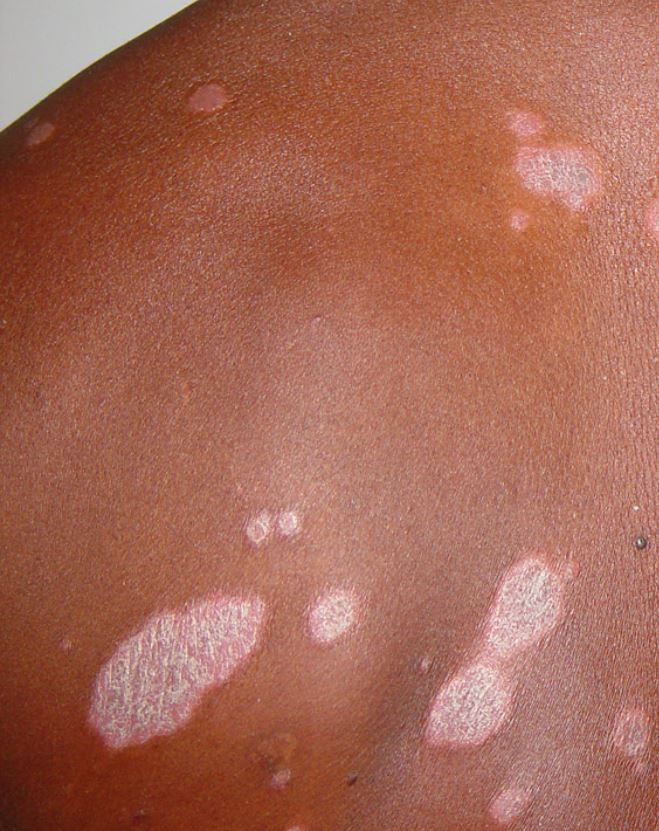Psoriasis: (39, 582, 274, 763), (412, 549, 587, 760), (499, 92, 617, 244), (304, 572, 366, 656), (601, 697, 656, 777), (234, 504, 317, 545), (480, 774, 539, 831)
